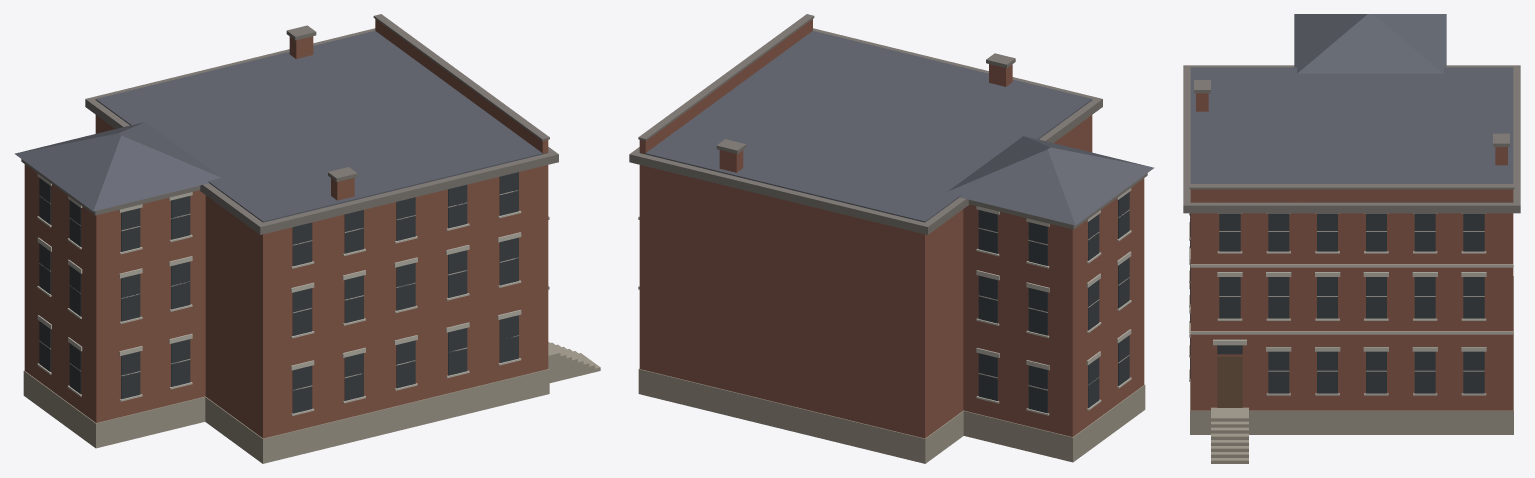
File: house_1641_indiana__draft_1904.glb
3 views of the same model, side by side, from view 1: azimuth 30°, elevation 25°; view 2: azimuth 150°, elevation 25°; view 3: azimuth 270°, elevation 25° (orthographic). The views are drawn at different scales.
Visible parts, largest first — view 1: house_1641_indiana__draft_1904; view 2: house_1641_indiana__draft_1904; view 3: house_1641_indiana__draft_1904.
Part boxes in pixels (box(x1,y1,x2,y2)): house_1641_indiana__draft_1904: box(14, 14, 600, 463); house_1641_indiana__draft_1904: box(629, 14, 1154, 463); house_1641_indiana__draft_1904: box(1183, 14, 1520, 463).
Size of the model in its own units: 24.4 by 13.72 by 15.95.
